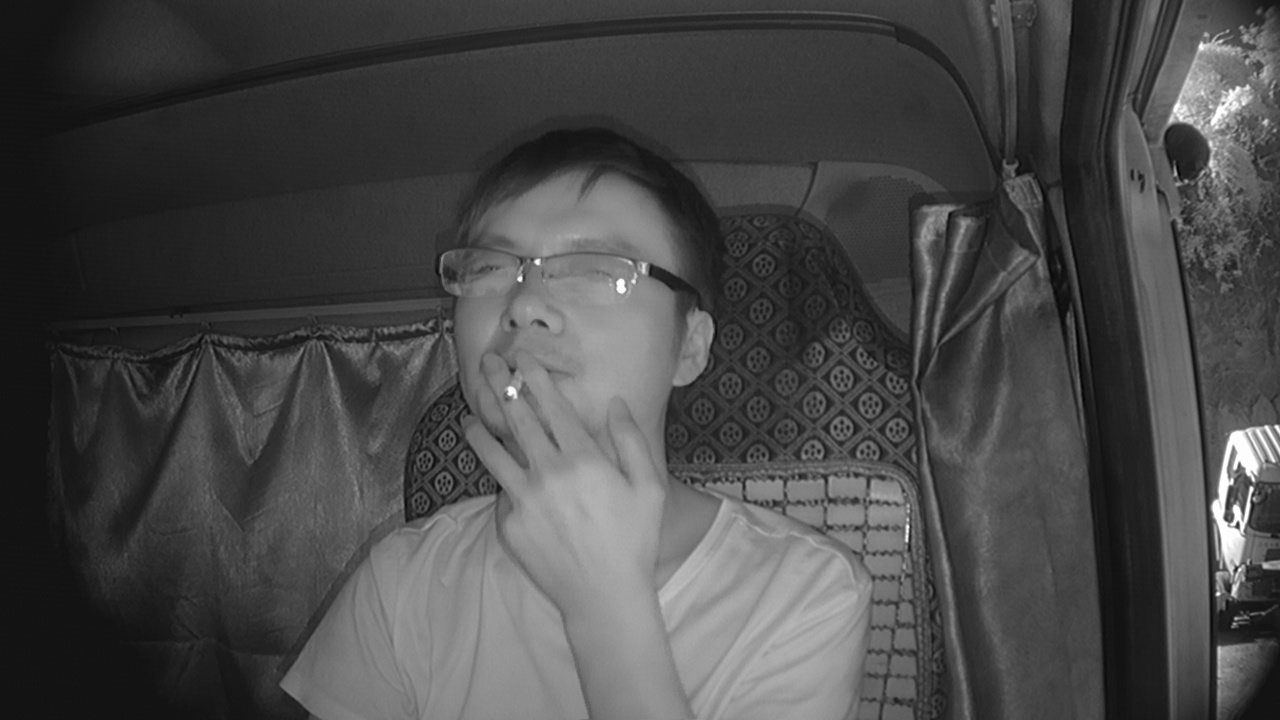hand: (473, 348, 651, 572)
